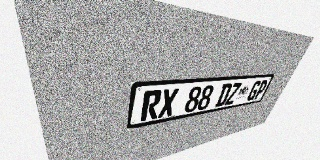8: (183, 86, 204, 113), (196, 85, 216, 111)
D: (214, 83, 233, 107)
G: (246, 80, 262, 101)
P: (253, 80, 269, 100)
R: (140, 89, 162, 121)
X: (157, 88, 179, 118)
Z: (224, 82, 242, 105)
